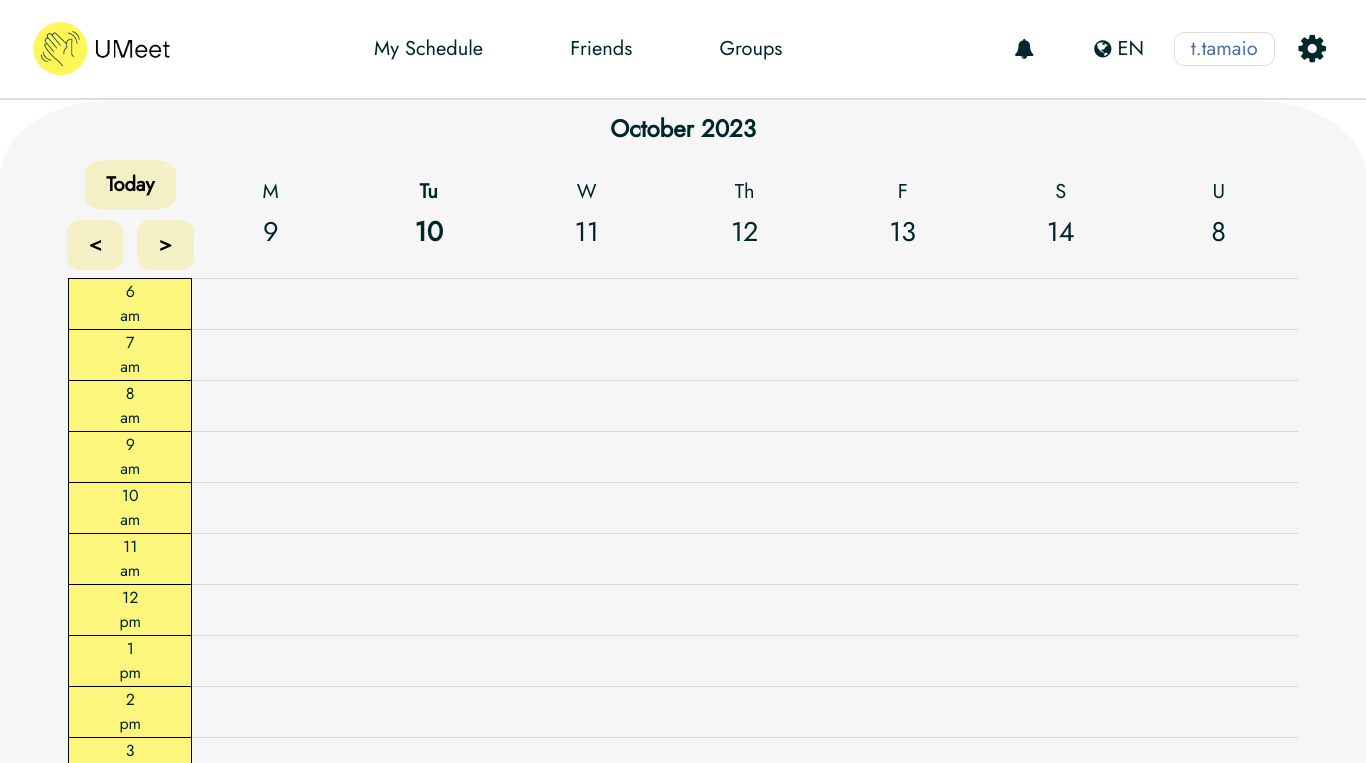
Test case: goes back to today after moving to next week
Click the button ">": point(165, 245) [137,220,194,270]
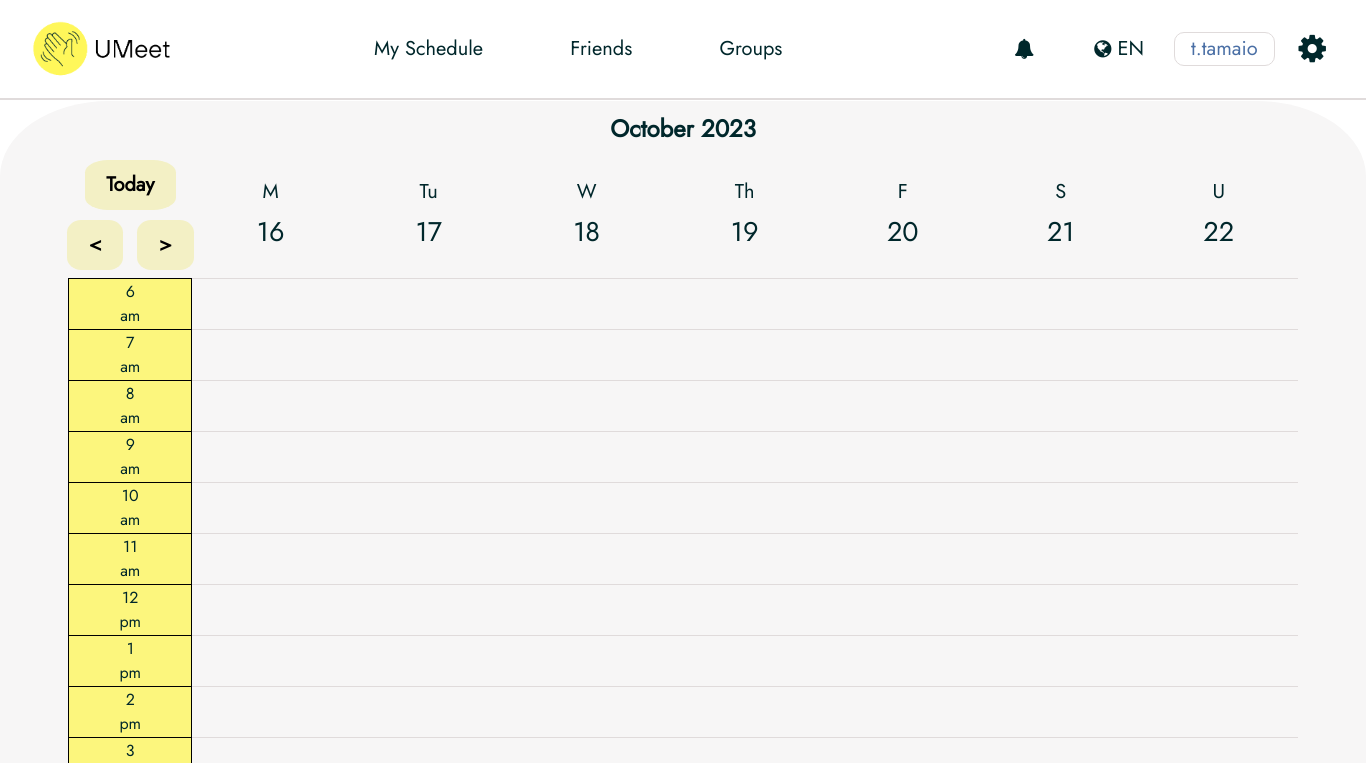
Click the button ">": point(165, 245) [137,220,194,270]
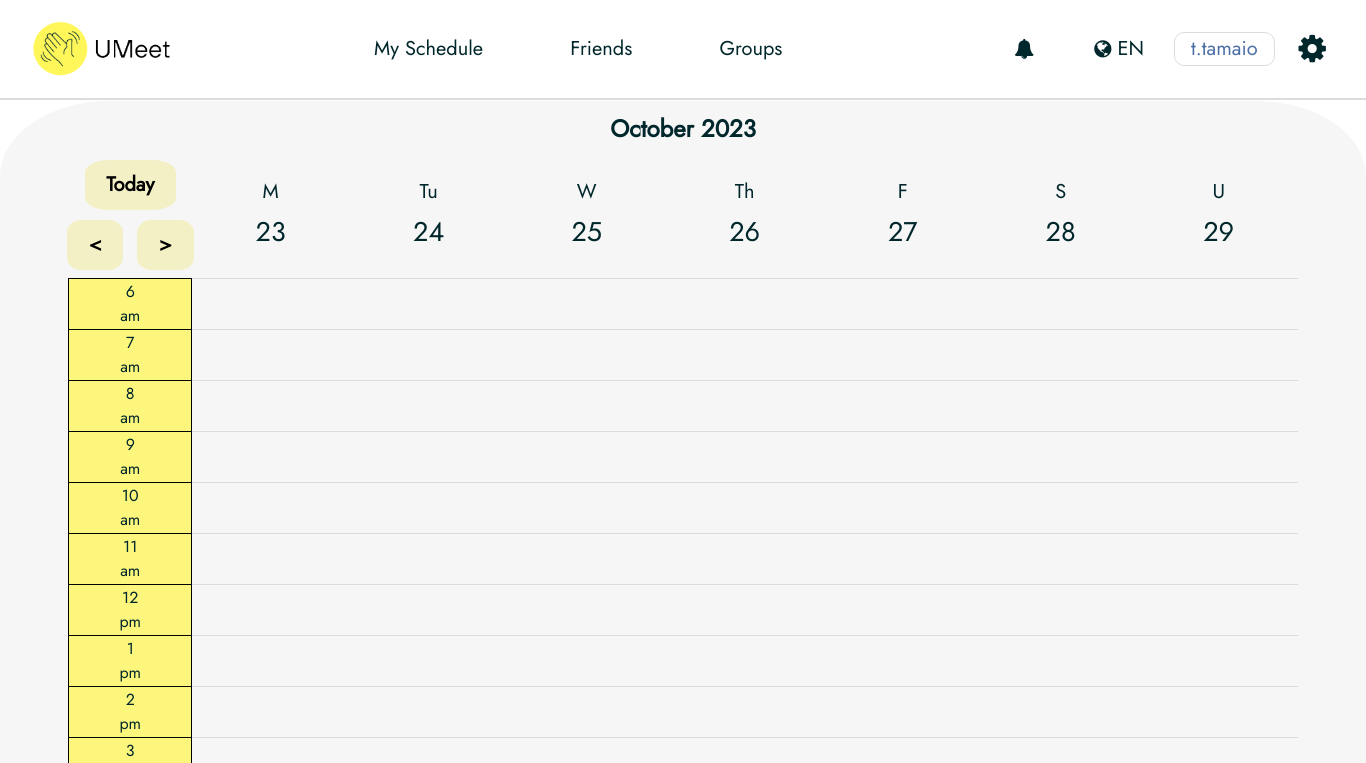
Click the button ">": point(165, 245) [137,220,194,270]
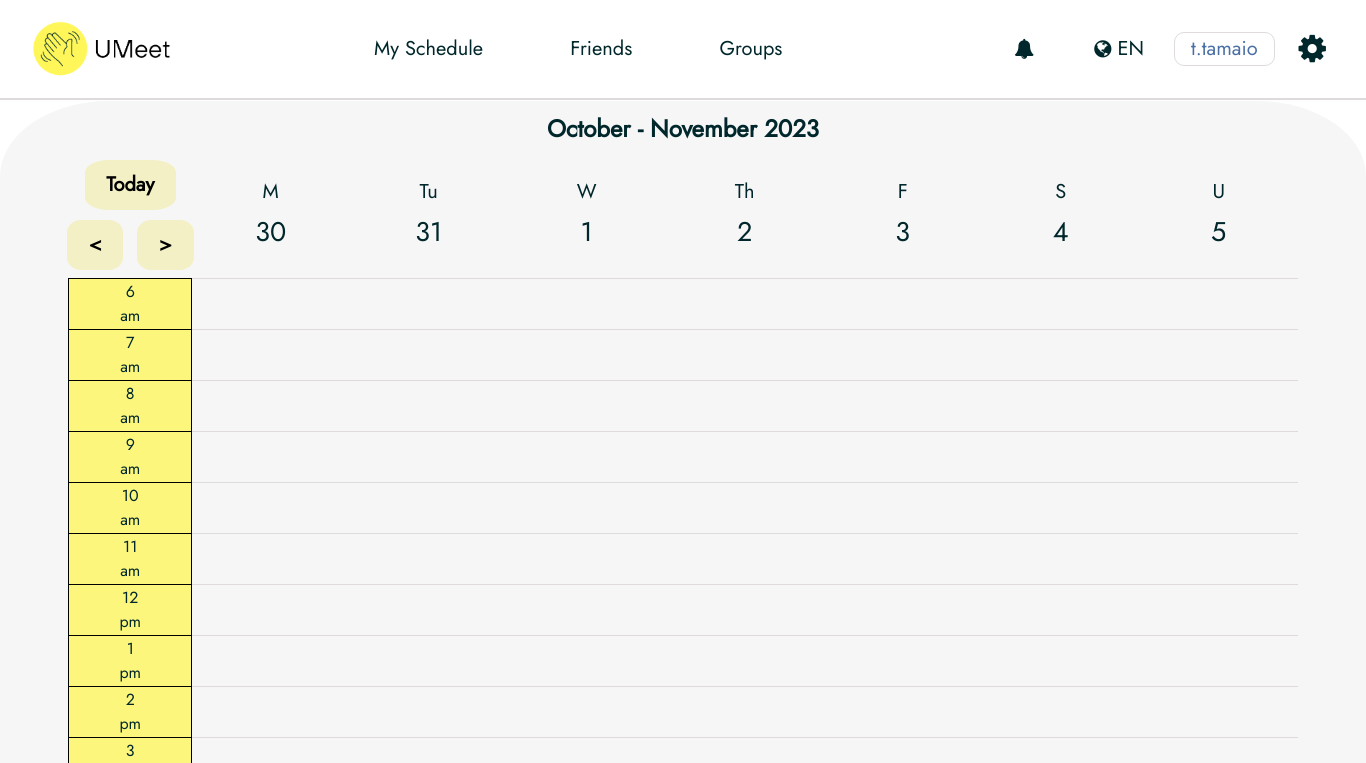
Click the button "Today": point(130, 185) [84,160,176,210]
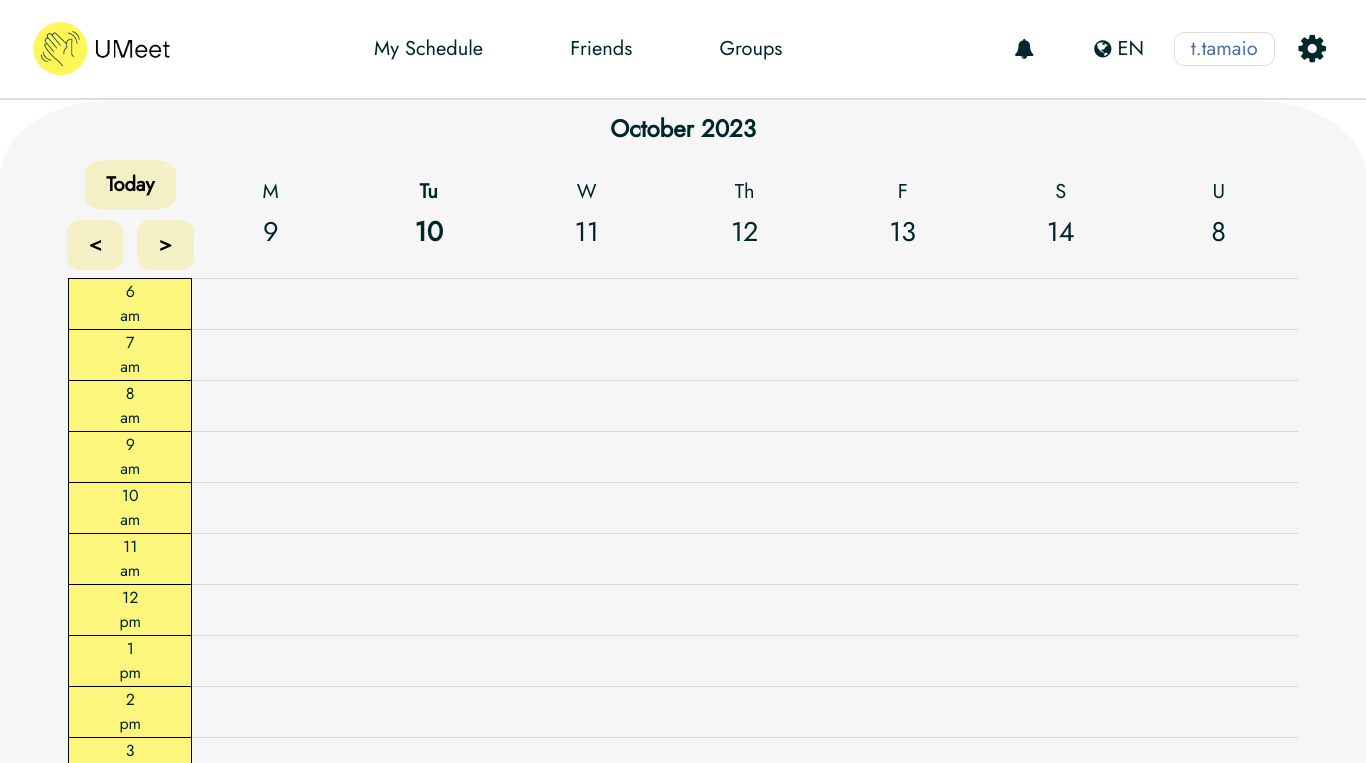
Expected: the column heading "Tu" is shown, [420,177,438,206]
Expected: the text "10" is shown, [414,212,443,252]
